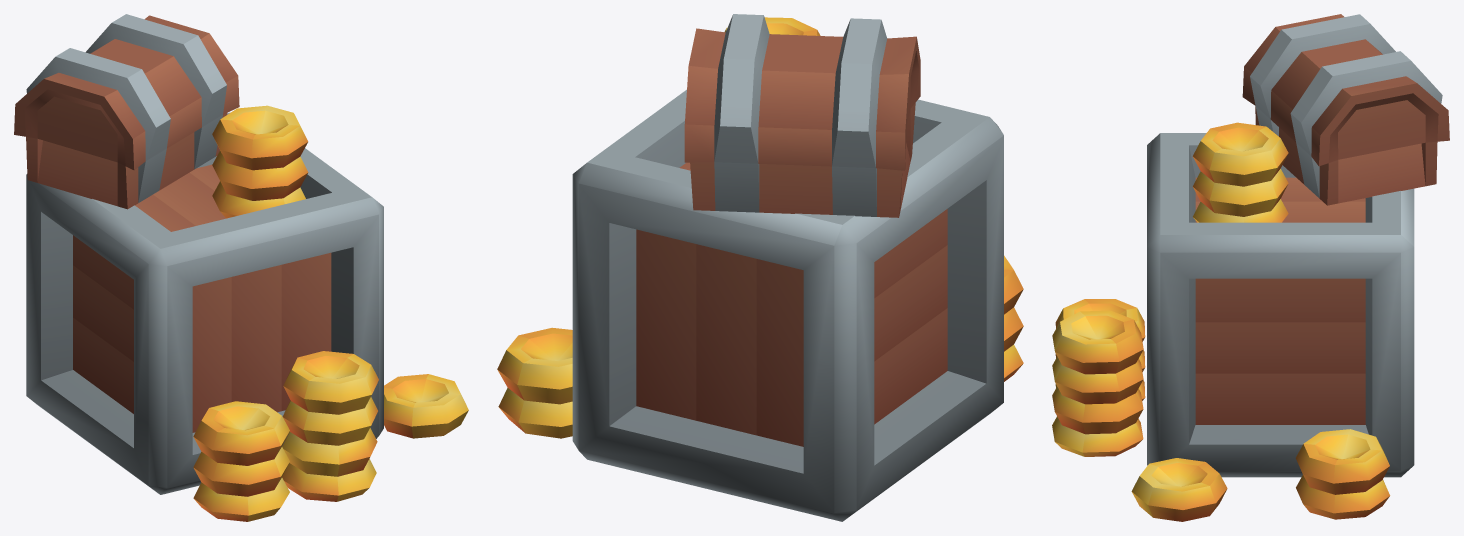
Rendered from cc0-box-decorated-lod0.glb.
3 views of the same model, side by side, from view 1: azimuth 30°, elevation 25°; view 2: azimuth 150°, elevation 25°; view 3: azimuth 270°, elevation 25° (orthographic). The views are drawn at different scales.
Parts seen in each view (by area): view 1: part_0; view 2: part_0; view 3: part_0.
Boxes of the visible parts, x1,y1,x2,y2 form: part_0: [14, 14, 468, 521]; part_0: [497, 14, 1023, 521]; part_0: [1052, 14, 1449, 521].
Bounding box in the file's own units: 1.49 × 1.48 × 1.49.
Materials: 1 (1 with a texture image).
